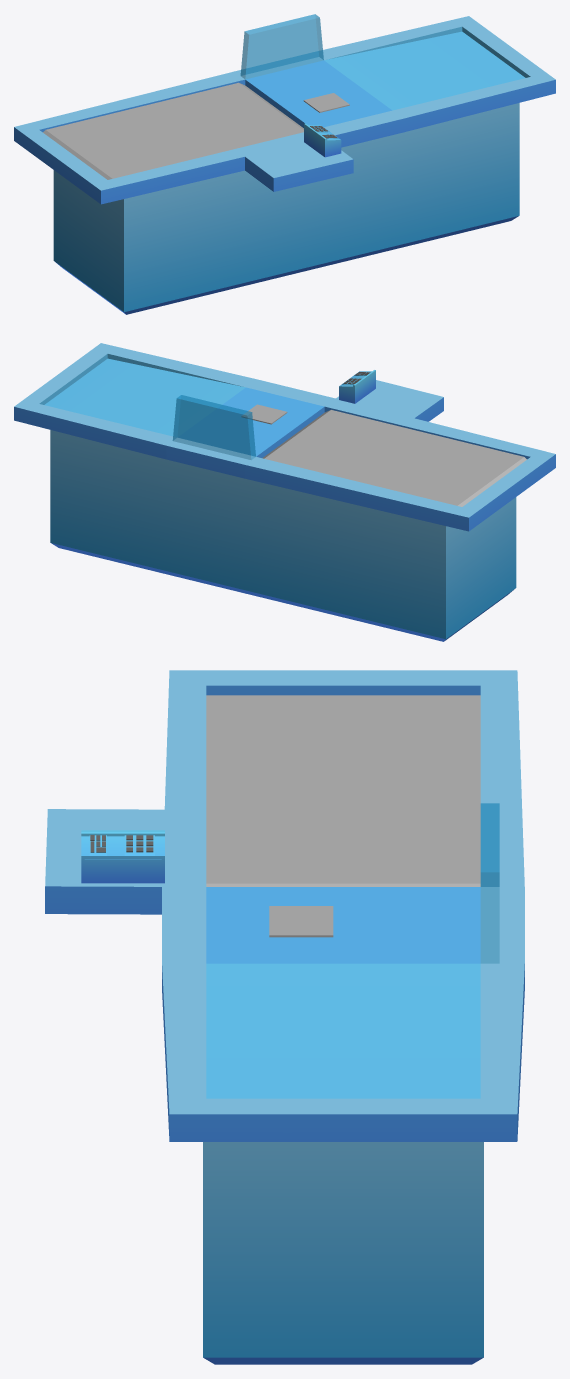
The model's file is checkout_blue.fbx.
3 renders of one model, top to bottom at view 1: azimuth 30°, elevation 25°; view 2: azimuth 150°, elevation 25°; view 3: azimuth 270°, elevation 25°, orthographic. The views are drawn at different scales.
Visible parts, largest first — view 1: checkout_blue, register_blue; view 2: checkout_blue, register_blue; view 3: checkout_blue, register_blue.
Part boxes in pixels (left/top/right/bottom): checkout_blue: left=14, top=14, right=555, bottom=314; register_blue: left=304, top=123, right=341, bottom=157; checkout_blue: left=14, top=343, right=555, bottom=641; register_blue: left=339, top=370, right=375, bottom=403; checkout_blue: left=45, top=670, right=524, bottom=1364; register_blue: left=81, top=830, right=164, bottom=883.
Size of the model in its own units: 1571 by 611 by 717.
